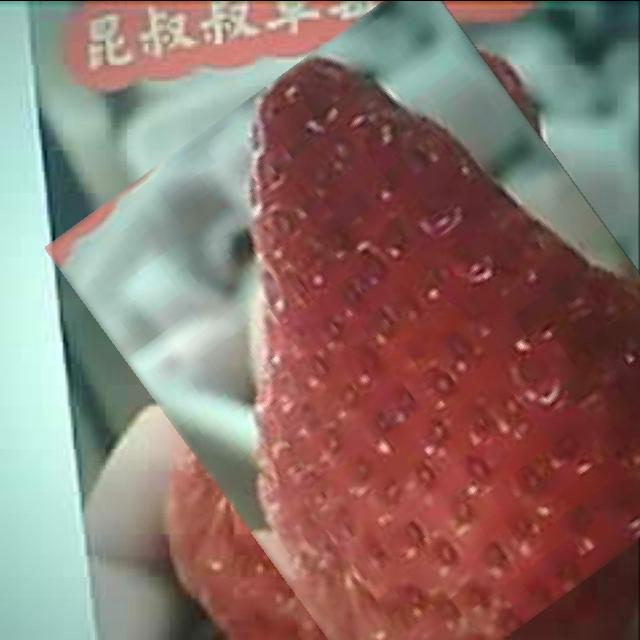strawberry: (109, 12, 640, 640)
